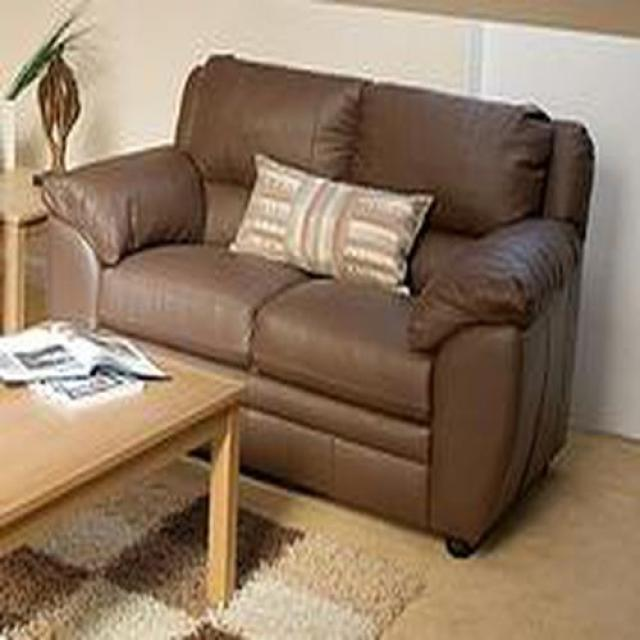sofa: (33, 55, 596, 561)
